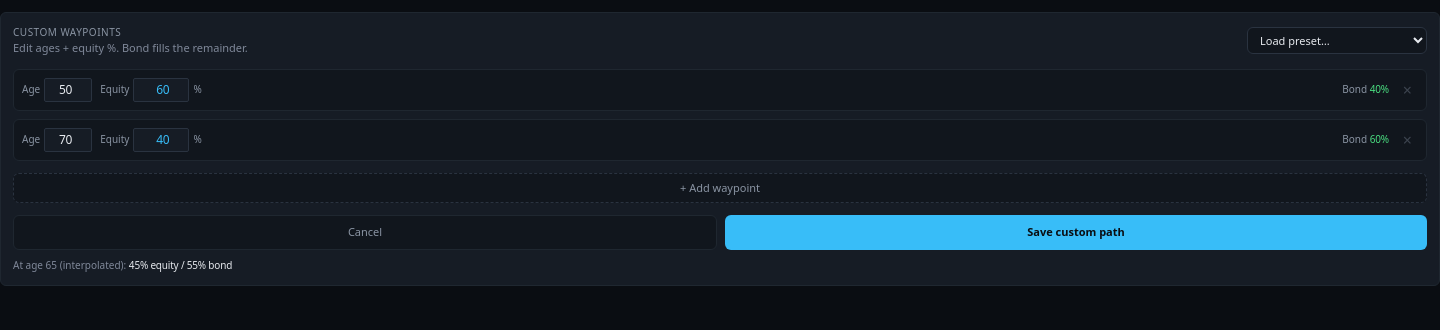
Test: WaypointEditor — validation hints › surfaces a 'Duplicate age' warning when two rows share an age
Replace the text in the number field labelled "Age" in the row of "60" with "50" at (68, 140), box [44, 128, 92, 152]
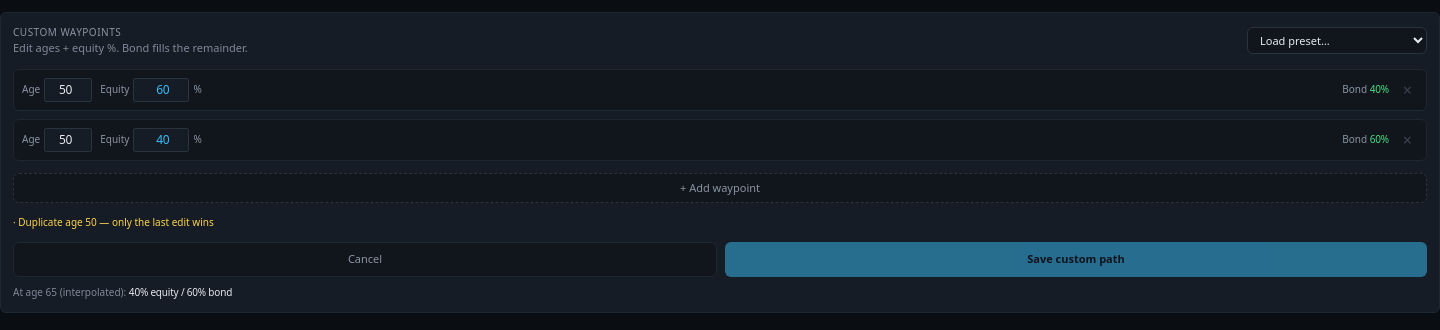
Expected: the list item "· Duplicate age 50 — only the last edit wins" is shown, [13, 215, 214, 229]
